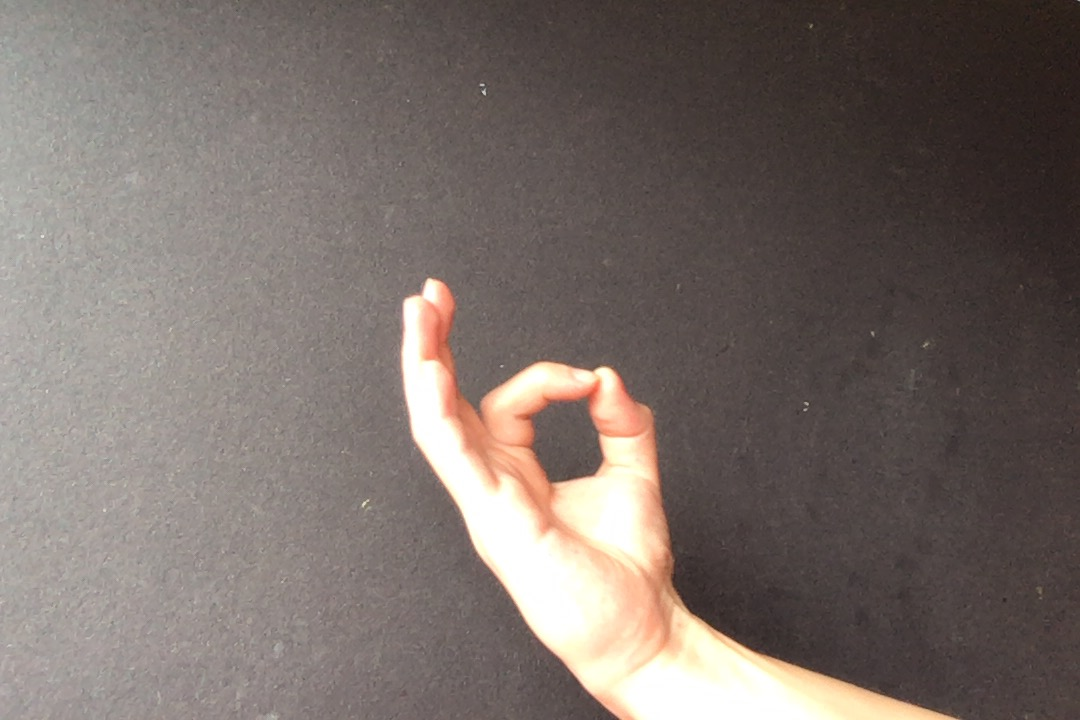oksign: (388, 274, 690, 662)
